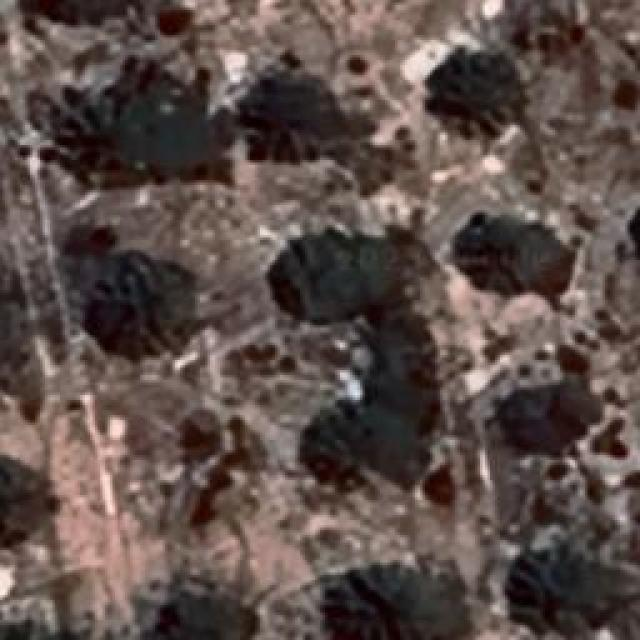PalmTree: (73, 15, 475, 86), (85, 246, 195, 354), (232, 75, 350, 160), (331, 564, 464, 634), (292, 227, 392, 315), (456, 215, 562, 293), (58, 95, 152, 175), (311, 411, 414, 484), (516, 551, 612, 629), (502, 384, 590, 456), (157, 594, 260, 638), (0, 468, 50, 532), (0, 617, 79, 640), (1, 623, 78, 640)
